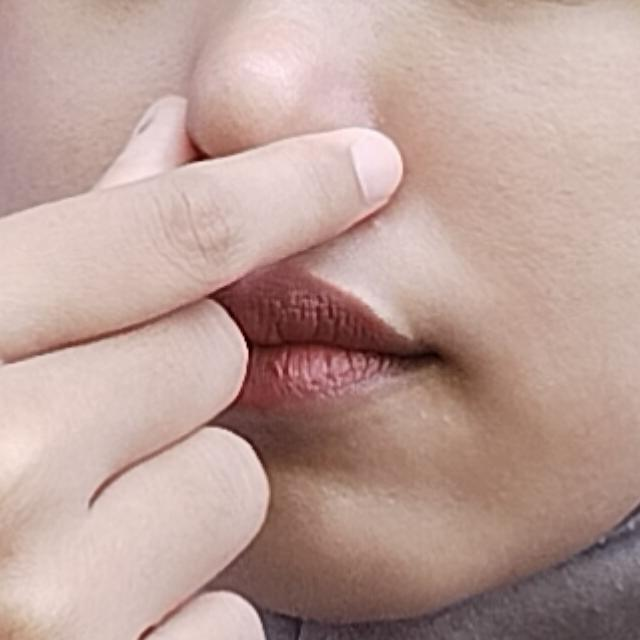bau: (0, 38, 480, 640)
